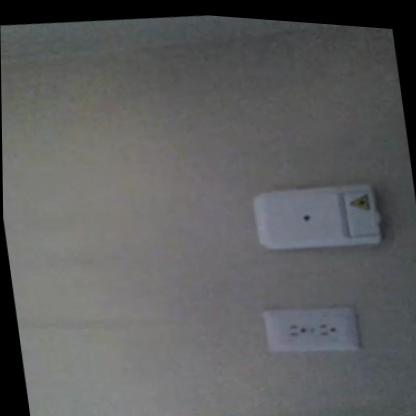OUTLET: (262, 299, 360, 361)
